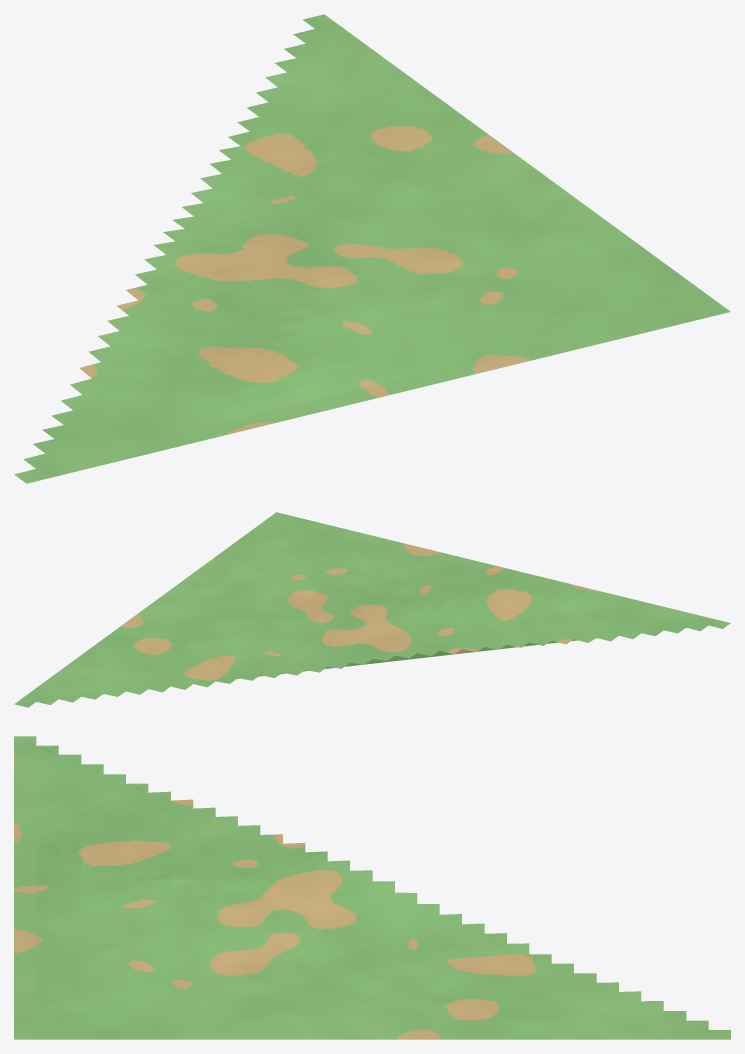
The model's file is Grass_Flat_12_NE.obj.
3 views of the same model, one above another, from view 1: azimuth 30°, elevation 25°; view 2: azimuth 150°, elevation 25°; view 3: azimuth 270°, elevation 25° (orthographic). The views are drawn at different scales.
Bounding box in the file's own units: 10 × 0.1349 × 10.
1 material, 1 textured.
